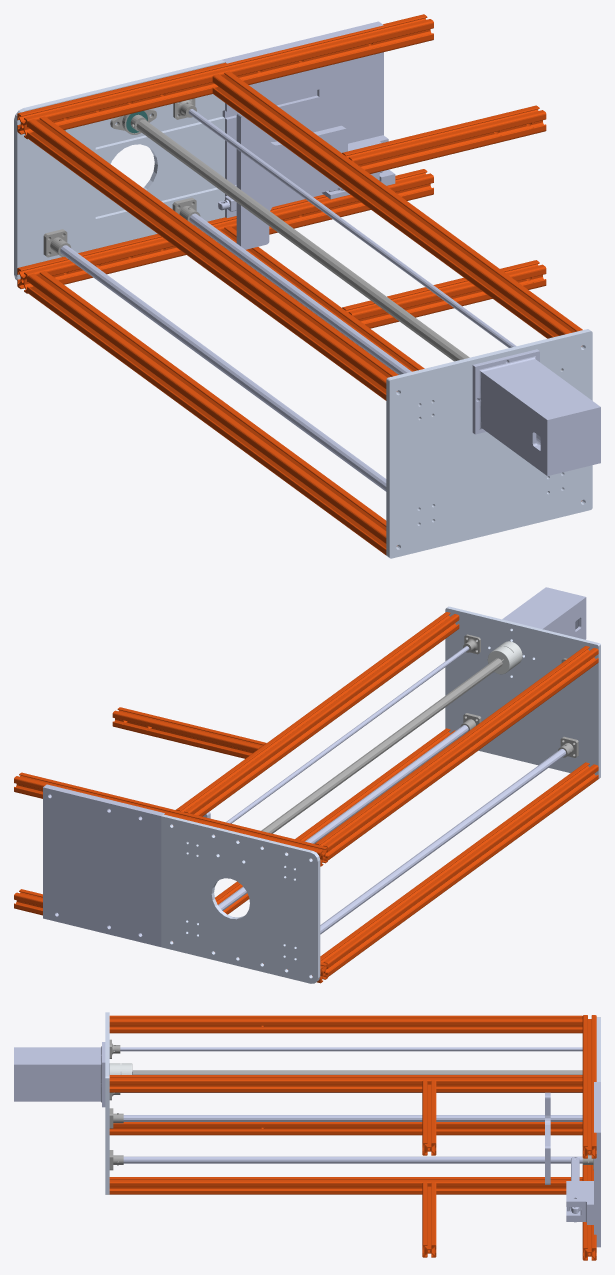
The model's file is drill_body.glb.
3 views of the same model, one above another, from view 1: azimuth 30°, elevation 25°; view 2: azimuth 150°, elevation 25°; view 3: azimuth 270°, elevation 25° (orthographic). The views are drawn at different scales.
Parts seen in each view (by area): view 1: body11857250_1, body11857250_2, body11857250, body11857250_3, body11857250_7; view 2: body11857250_2, body11857250_1, body11857250, body11857250_3, body11857250_7, body11857250_5; view 3: body11857250_1, body11857250, body11857250_3, body11857250_2, body11857250_7.
Boxes of the visible parts, left/top/right/bottom form: body11857250_1: left=17, top=14, right=582, bottom=555; body11857250_2: left=14, top=59, right=592, bottom=558; body11857250: left=60, top=21, right=600, bottom=491; body11857250_3: left=110, top=109, right=469, bottom=361; body11857250_7: left=43, top=98, right=562, bottom=419; body11857250_2: left=161, top=606, right=600, bottom=983; body11857250_1: left=14, top=612, right=598, bottom=983; body11857250: left=43, top=587, right=586, bottom=946; body11857250_3: left=261, top=658, right=503, bottom=833; body11857250_7: left=187, top=634, right=578, bottom=868; body11857250_5: left=487, top=641, right=522, bottom=674; body11857250_1: left=109, top=1015, right=596, bottom=1260; body11857250: left=14, top=1042, right=600, bottom=1247; body11857250_3: left=120, top=1070, right=582, bottom=1074; body11857250_2: left=105, top=1012, right=600, bottom=1194; body11857250_7: left=109, top=1039, right=593, bottom=1170.
Bounding box in the file's own units: 0.44 × 0.185 × 0.8345.
